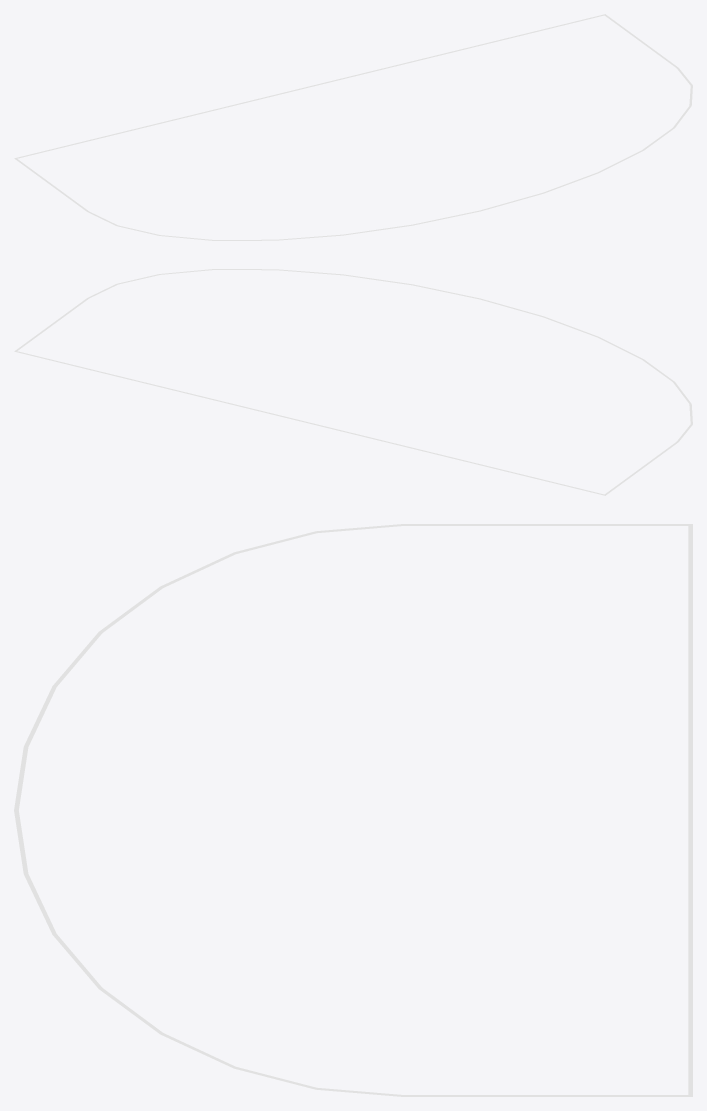
Rendered from bordure.glb.
The picture shows the model from 3 angles, top to bottom: view 1: azimuth 30°, elevation 25°; view 2: azimuth 150°, elevation 25°; view 3: azimuth 270°, elevation 25°; orthographic projection. The views are drawn at different scales.
Parts seen in each view (by area): view 1: bordure_0; view 2: bordure_0; view 3: bordure_0.
Part boxes in pixels (box(x1,y1,x2,y2)): bordure_0: box(14, 14, 692, 240); bordure_0: box(14, 269, 692, 495); bordure_0: box(14, 524, 692, 1096).
Bounding box in the file's own units: 11.24 × 0 × 5.63.
1 material, 1 textured.
